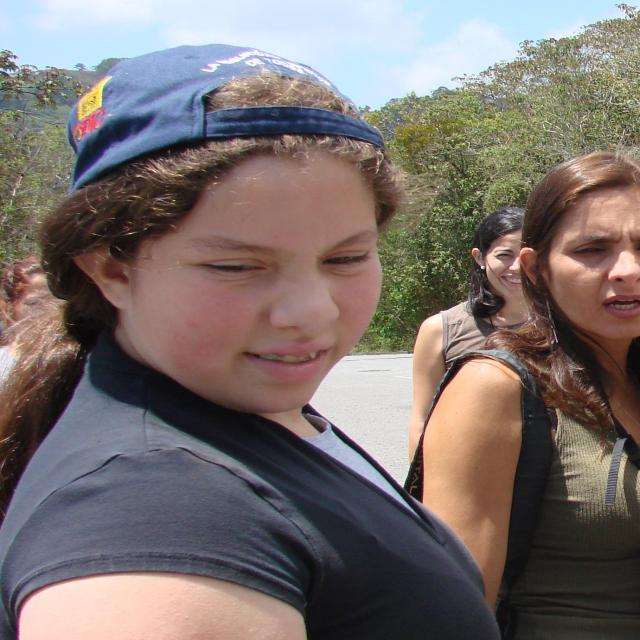no-glass: (182, 241, 372, 281)
